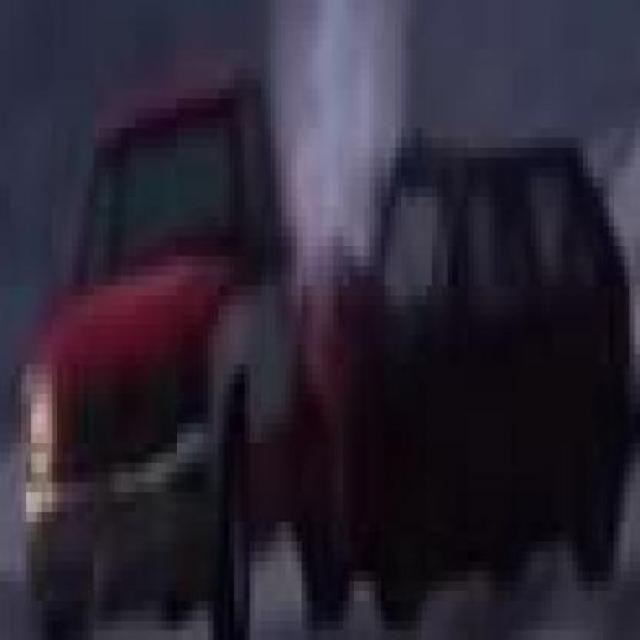accident: (55, 28, 640, 573)
